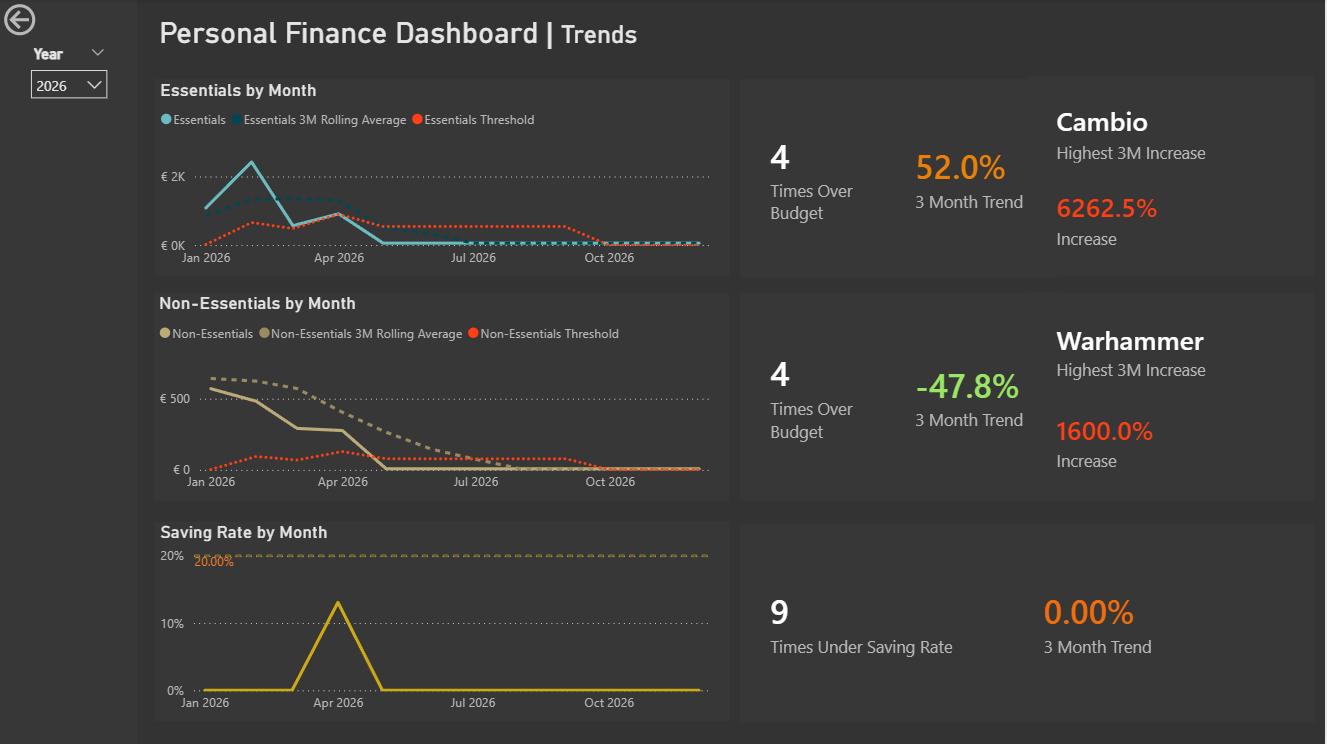

What the dashboard file says about the page in this screenshot:
{"tool":"powerbi","page":{"name":"Trends","canvas":[1280,720],"ordinal":2},"visuals":[{"type":"shape","box":[0,0,134,719.8],"z":0},{"type":"slicer","fields":{"Values":["Full Table.Date.Variation.Date Hierarchy.Year"]},"box":[20,39.9,94.1,75.5],"z":1000},{"type":"actionButton","box":[0,0,100,40],"z":2000},{"type":"textbox","box":[149.6,10.9,760.1,49.5],"z":3000},{"type":"lineChart","title":"Essentials by Month","fields":{"Y":["Full Table.Essentials","Full Table.Essentials rolling average","Full Table.Essentials Threshold"],"Category":["Full Table.Date.Variation.Date Hierarchy.Year","Full Table.Date.Variation.Date Hierarchy.Month"]},"box":[150.5,77.3,554.1,190.5],"z":4000},{"type":"lineChart","title":"Non-Essentials by Month","fields":{"Y":["Full Table.Non-Essentials","Full Table.Non-Essentials rolling average","Full Table.Non-Essentials Threshold"],"Category":["Full Table.Date.Variation.Date Hierarchy.Year","Full Table.Date.Variation.Date Hierarchy.Month"]},"box":[149.2,283.7,555.4,201.1],"z":5000},{"type":"lineChart","title":"Saving Rate by Month","fields":{"Y":["Full Table.Saving Rate"],"Category":["Full Table.Date.Variation.Date Hierarchy.Year","Full Table.Date.Variation.Date Hierarchy.Month"]},"box":[150.5,504.8,554.1,193.1],"z":6000},{"type":"cardVisual","fields":{"Data":["Full Table.x Over Essentials Budget","Full Table.Essentials 3 Month Trend"]},"box":[714.9,76.7,306.9,191.2],"z":7000},{"type":"cardVisual","fields":{"Data":["Full Table.Non-Essentials Times Over Budget","Full Table.Non-Essentials 3 Month Trend"]},"box":[714.9,284.1,306.9,200.6],"z":8000},{"type":"cardVisual","fields":{"Data":["Full Table.Times Under Saving Rate","Full Table.Saving Rate 3 Month Trend"]},"box":[715.3,506.1,554.1,191.8],"z":9000},{"type":"cardVisual","fields":{"Data":["Full Table.Essentials Top Subcategory 3M Label","Full Table.Essentials Top Subcategory 3M Trend"]},"box":[992.2,75.4,277.3,192.5],"z":10000},{"type":"cardVisual","fields":{"Data":["Full Table.Non-Essentials Top Subcategory 3M Label","Full Table.Non-Essentials Top Subcategory 3M Trend"]},"box":[992.2,284.1,277.3,200.6],"z":11000}]}

Visuals, with their boxes in screenshot pixels (x1, y1, x2, y2), scaled from the page's 1280x720 canvas onto the 1327x744 screenshot:
shape: <bbox>0, 0, 139, 743</bbox>
slicer - Full Table.Date.Variation.Date Hierarchy.Year: <bbox>21, 41, 118, 119</bbox>
actionButton: <bbox>0, 0, 104, 41</bbox>
textbox: <bbox>155, 11, 943, 62</bbox>
"Essentials by Month" lineChart: <bbox>156, 80, 730, 277</bbox>
"Non-Essentials by Month" lineChart: <bbox>155, 293, 730, 501</bbox>
"Saving Rate by Month" lineChart: <bbox>156, 522, 730, 721</bbox>
cardVisual - Full Table.x Over Essentials Budget x Full Table.Essentials 3 Month Trend: <bbox>741, 79, 1059, 277</bbox>
cardVisual - Full Table.Non-Essentials Times Over Budget x Full Table.Non-Essentials 3 Month Trend: <bbox>741, 294, 1059, 501</bbox>
cardVisual - Full Table.Times Under Saving Rate x Full Table.Saving Rate 3 Month Trend: <bbox>742, 523, 1316, 721</bbox>
cardVisual - Full Table.Essentials Top Subcategory 3M Label x Full Table.Essentials Top Subcategory 3M Trend: <bbox>1029, 78, 1316, 277</bbox>
cardVisual - Full Table.Non-Essentials Top Subcategory 3M Label x Full Table.Non-Essentials Top Subcategory 3M Trend: <bbox>1029, 294, 1316, 501</bbox>
